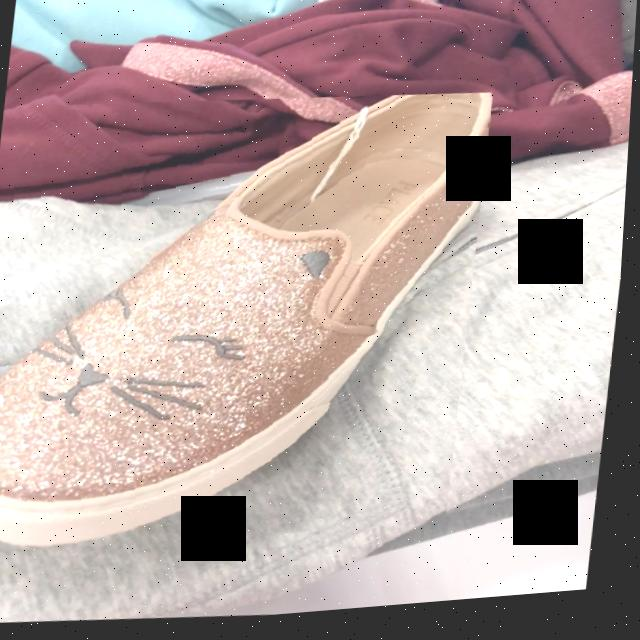shoe: (0, 101, 494, 552)
